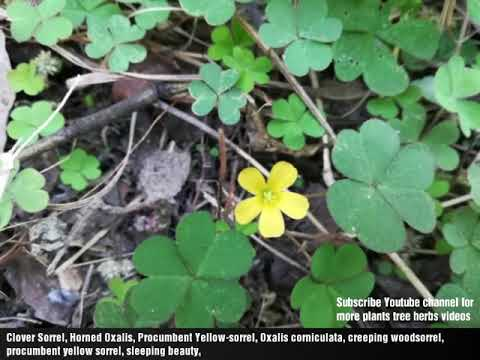oxalis: (119, 198, 270, 345), (325, 102, 448, 260), (3, 6, 168, 76), (185, 39, 292, 126), (51, 138, 107, 192), (9, 101, 68, 143)
